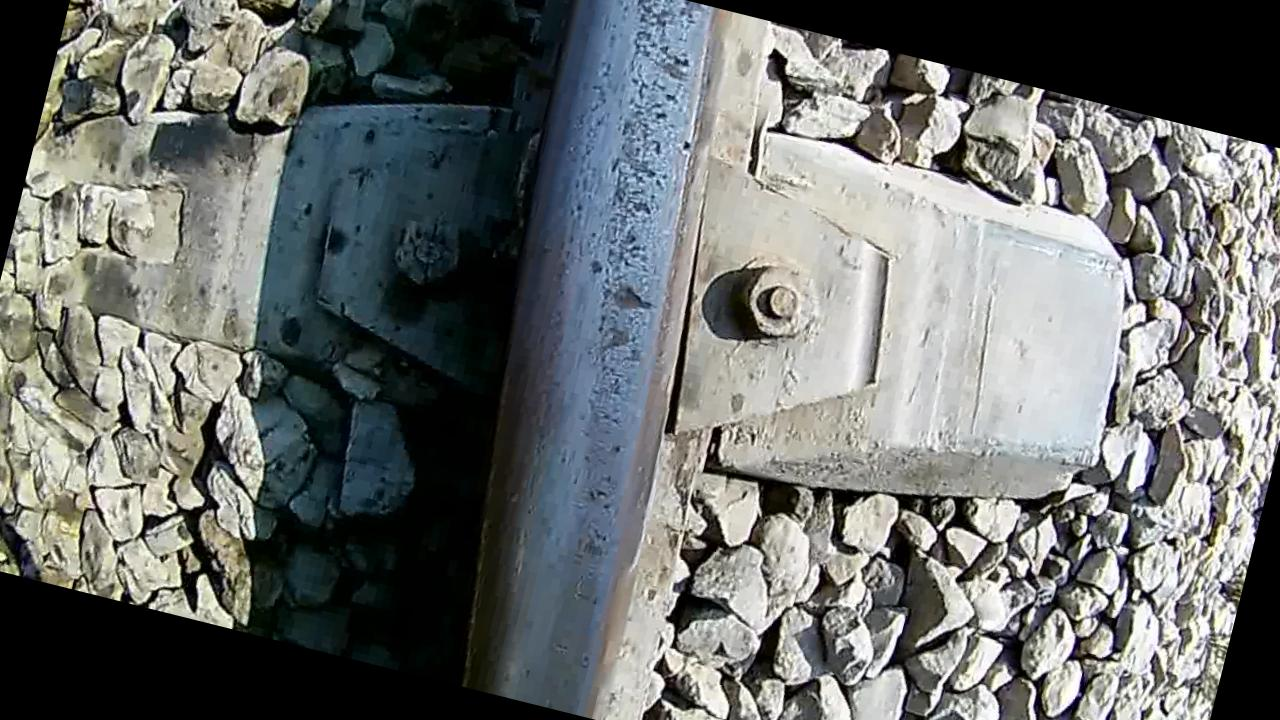crack: (406, 0, 756, 716)
